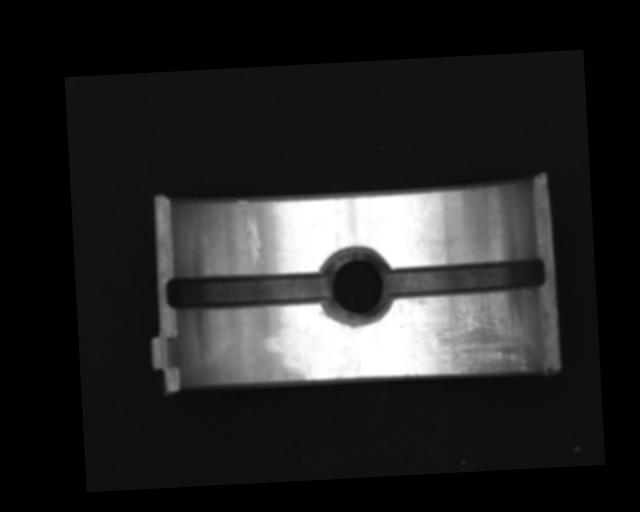gap: (165, 265, 328, 313), (389, 256, 547, 299)
hole: (317, 247, 394, 326)
nick: (236, 198, 264, 268)
scratch: (422, 291, 537, 379)
